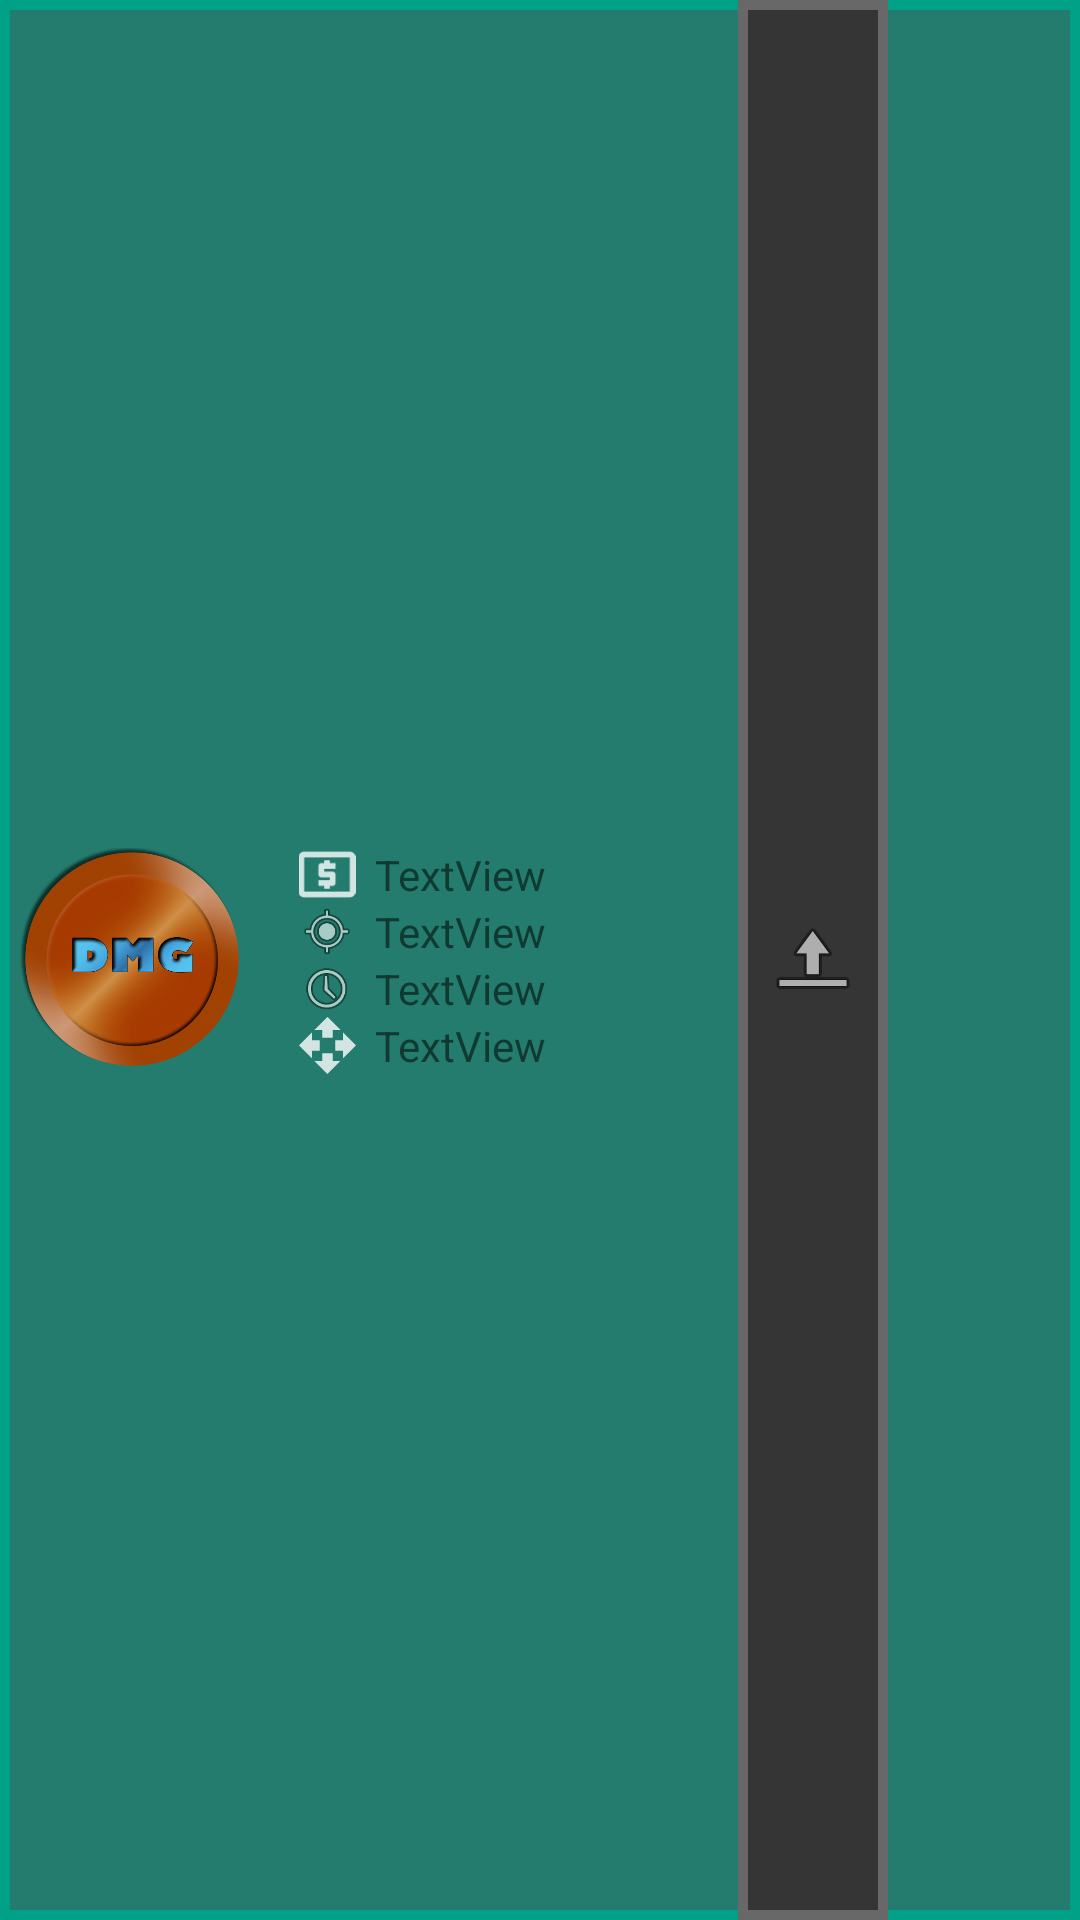

Where icons sit on this 1080px x 1920px app screen, as box=[x1, y1, x2, y2]:
gold: box=[299, 851, 356, 898]
mylocation: box=[304, 909, 350, 954]
rangesym: box=[299, 1017, 356, 1074]
recent history: box=[306, 968, 347, 1009]
